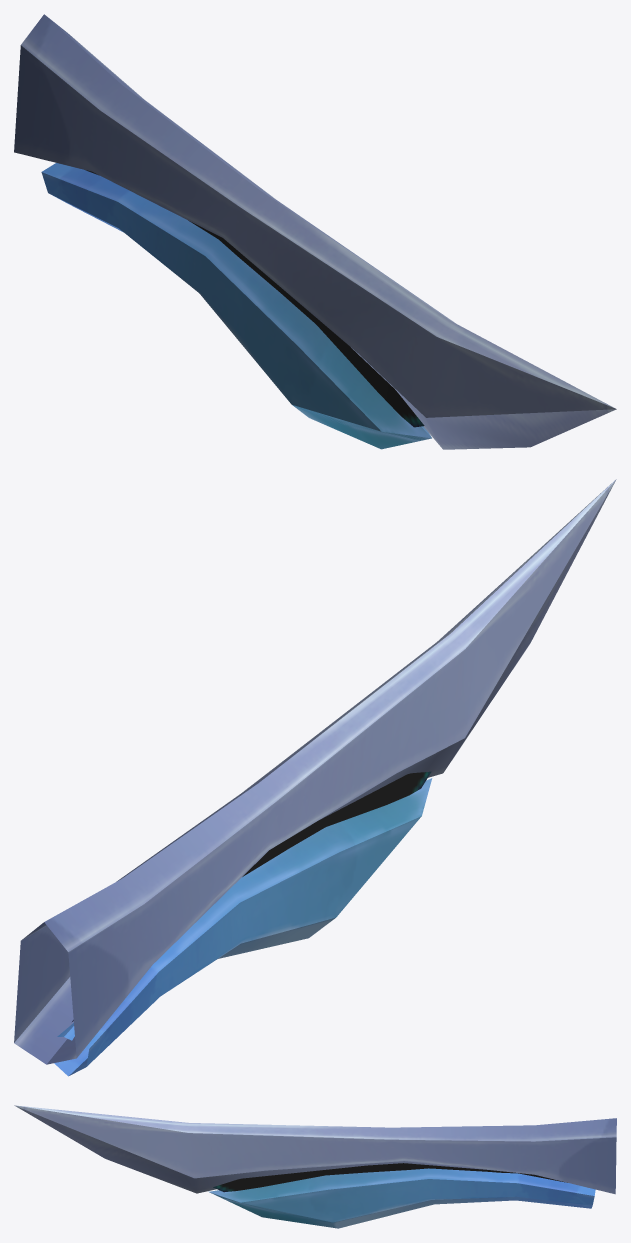
File: 1054chaoxiyongshi_L_WEP.FBX
3 renders of one model, top to bottom at view 1: azimuth 30°, elevation 25°; view 2: azimuth 150°, elevation 25°; view 3: azimuth 270°, elevation 25°, orthographic. The views are drawn at different scales.
Parts seen in each view (by area): view 1: 1054chaoxiyongshi_L_WEP; view 2: 1054chaoxiyongshi_L_WEP; view 3: 1054chaoxiyongshi_L_WEP.
Part boxes in pixels (x1,y1,x2,y2): 1054chaoxiyongshi_L_WEP: (14, 14, 616, 449); 1054chaoxiyongshi_L_WEP: (14, 479, 616, 1076); 1054chaoxiyongshi_L_WEP: (14, 1105, 616, 1228).
Bounding box in the file's own units: 46.03 × 164 × 728.
